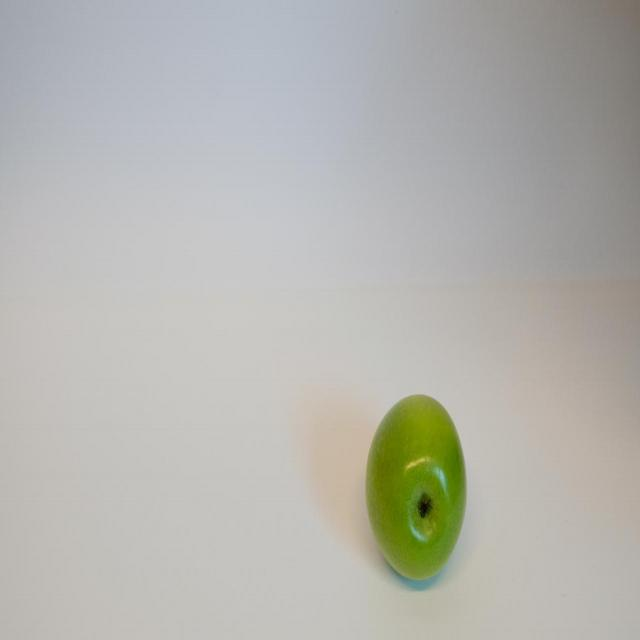apple: (366, 388, 468, 589)
